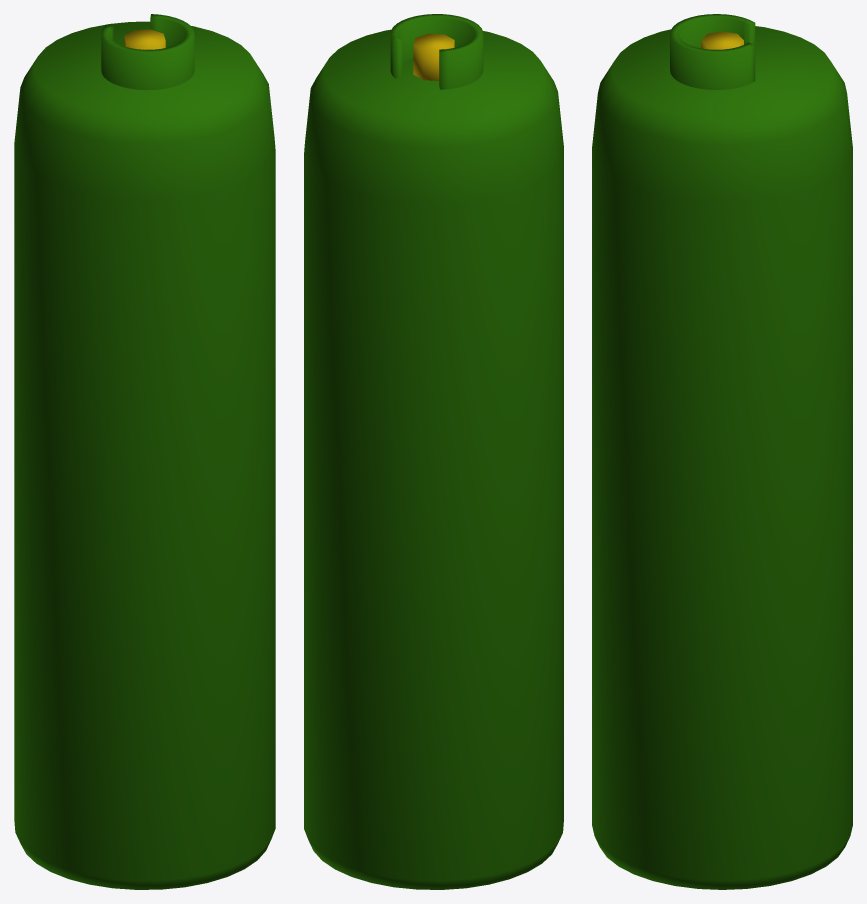
Rendered from Air Tank.fbx.
3 renders of one model, left to right at view 1: azimuth 30°, elevation 25°; view 2: azimuth 150°, elevation 25°; view 3: azimuth 270°, elevation 25°, orthographic.
Visible parts, largest first — view 1: Air Tank; view 2: Air Tank; view 3: Air Tank.
Part boxes in pixels (left/top/right/bottom): Air Tank: left=14, top=14, right=275, bottom=889; Air Tank: left=304, top=14, right=563, bottom=889; Air Tank: left=592, top=14, right=852, bottom=889.
Bounding box in the file's own units: 200 × 684 × 200.
